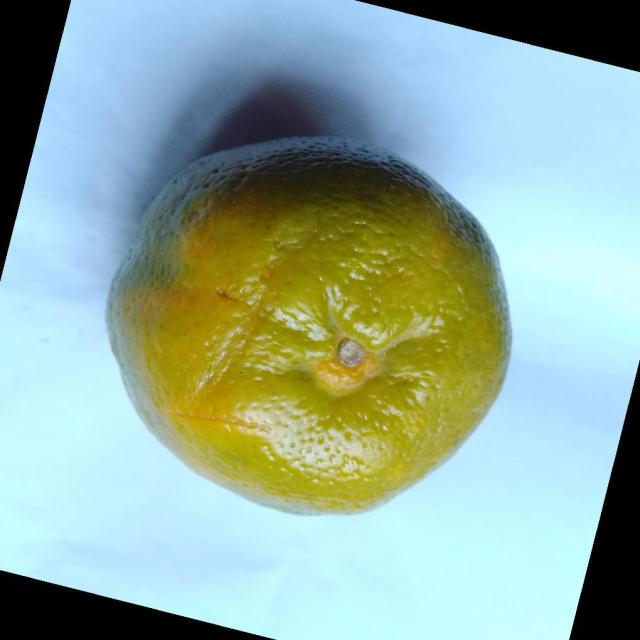fresh orange: (104, 133, 513, 518)
